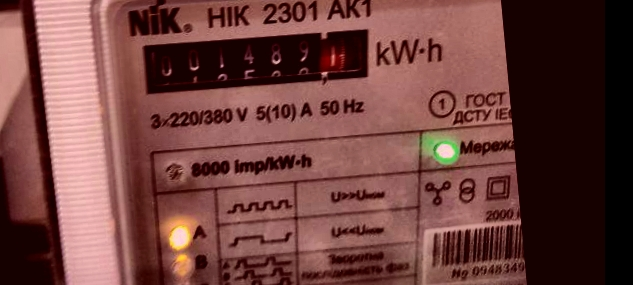0: (183, 45, 201, 72), (157, 52, 174, 78)
1: (212, 42, 228, 72), (324, 38, 339, 69)
4: (239, 40, 257, 67)
8: (265, 38, 284, 66)
9: (294, 37, 311, 63)
screen: (126, 13, 388, 112)
